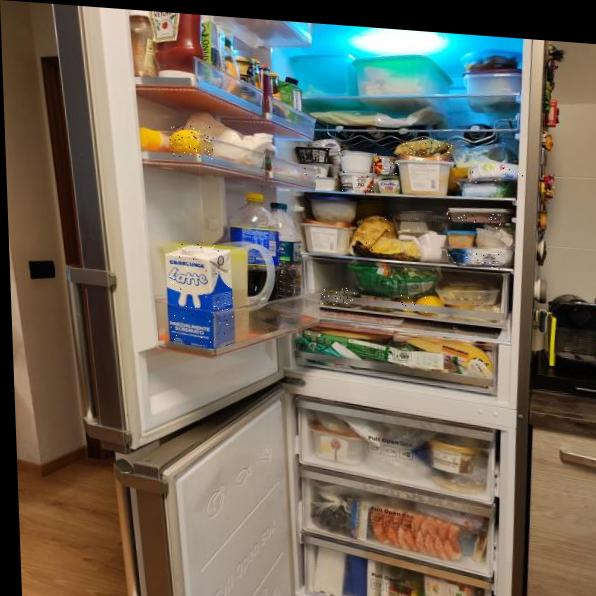cheese: (358, 214, 393, 257), (396, 136, 453, 161), (465, 162, 523, 186), (445, 248, 508, 270), (377, 177, 401, 194)
ham: (447, 210, 508, 226)
lemon: (169, 124, 214, 159), (415, 294, 447, 318), (399, 295, 416, 312)
milk: (167, 241, 237, 347)
olive: (357, 290, 398, 316), (322, 286, 355, 308)
yoghurt: (296, 147, 341, 166), (339, 171, 374, 194), (301, 163, 342, 180), (371, 154, 399, 176), (313, 138, 343, 156)
